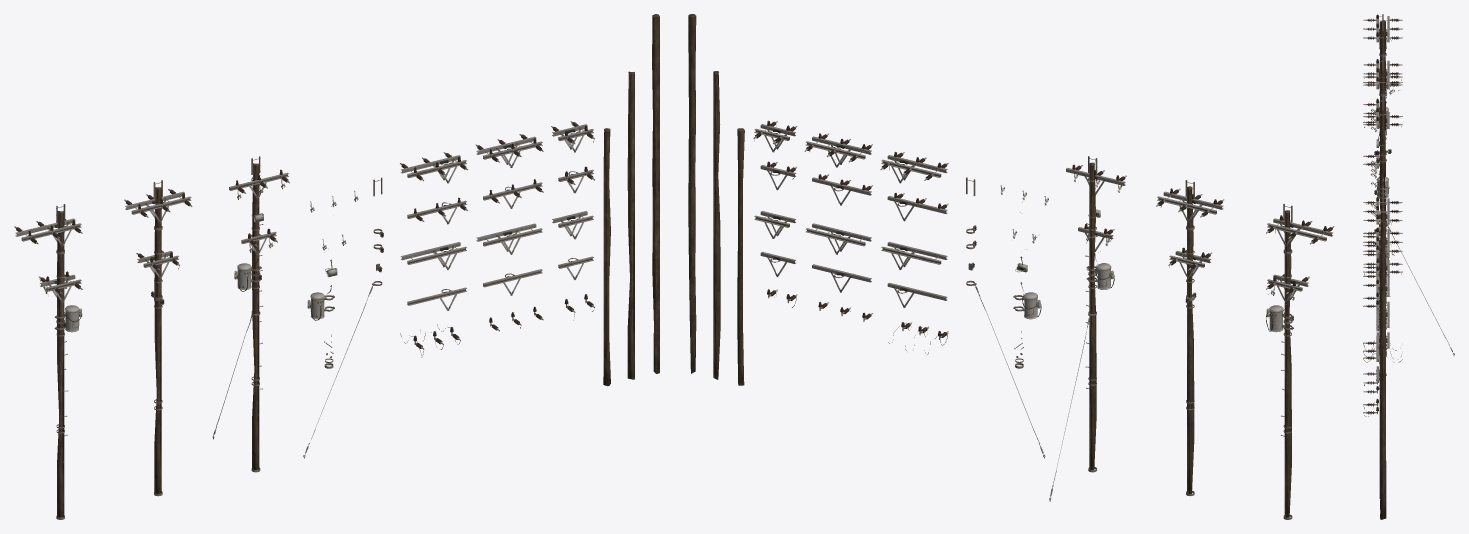
The model's file is electricity_poles.glb.
3 renders of one model, left to right at view 1: azimuth 30°, elevation 25°; view 2: azimuth 150°, elevation 25°; view 3: azimuth 270°, elevation 25°, orthographic. The views are drawn at different scales.
Parts seen in each view (by area): view 1: pole_large, preset_03_pole, pole, preset_02_pole, preset_01_pole, pole_small, connection_large_01, connection_large_offset_01, preset_02_connection_large_01, preset_03_connection_large_offset_01, support_large_01, support_large_offset_01; view 2: pole_large, pole, preset_01_pole, preset_03_pole, preset_02_pole, pole_small, connection_large_01, connection_large_offset_01, preset_02_connection_large_01, preset_03_connection_large_offset_01, support_large_offset_01, support_large_01; view 3: pole_large, preset_01_pole, preset_03_connection_large_offset_01, connection_large_offset_01, preset_02_connection_large_01, pole_small, connection_large_01, connection_small_01, preset_02_pole, preset_03_pole, preset_02_connection_small_01, preset_01_connection_large_02 (+9 smaller).
Part boxes in pixels (x1,y1,x2,y2): pole_large: (652,14,659,373); preset_03_pole: (57,211,64,517); pole: (627,71,634,379); preset_02_pole: (154,187,161,493); preset_01_pole: (252,163,259,469); pole_small: (603,128,610,386); connection_large_01: (475,134,543,167); connection_large_offset_01: (400,152,467,183); preset_02_connection_large_01: (124,189,192,223); preset_03_connection_large_offset_01: (14,218,82,246); support_large_01: (476,223,542,254); support_large_offset_01: (400,242,466,269); pole_large: (688,14,696,373); pole: (713,71,720,379); preset_01_pole: (1089,162,1096,469); preset_03_pole: (1284,210,1291,517); preset_02_pole: (1187,186,1194,493); pole_small: (737,128,744,385); connection_large_01: (804,133,872,167); connection_large_offset_01: (880,152,948,183); preset_02_connection_large_01: (1156,188,1224,222); preset_03_connection_large_offset_01: (1266,215,1334,246); support_large_offset_01: (881,241,947,270); support_large_01: (806,223,871,254); pole_large: (1380,220,1386,519); preset_01_pole: (1379,100,1385,231); preset_03_connection_large_offset_01: (1363,14,1402,48); connection_large_offset_01: (1363,197,1402,231); preset_02_connection_large_01: (1363,59,1402,88); pole_small: (1379,286,1385,498); connection_large_01: (1363,227,1402,257); connection_small_01: (1363,258,1402,282); preset_02_pole: (1379,60,1385,220); preset_03_pole: (1379,20,1385,199); preset_02_connection_small_01: (1363,112,1402,135); preset_01_connection_large_02: (1363,98,1386,128).
Size of the model in its own units: 13.11 by 7 by 1.96.
2 materials, 2 textured.
